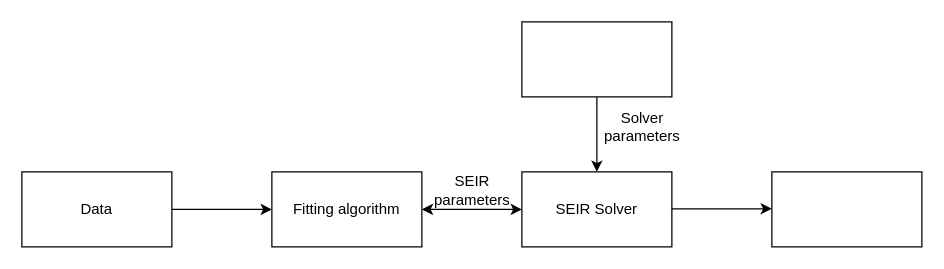
Image size: 944x269. Some labels were removed from this diagram. Here are the shapes that lost their labels. From the top down, the box of each, then its label:
(521, 21, 672, 97): Input
(771, 171, 922, 247): Results (Peak time, BRN, curves ...)
